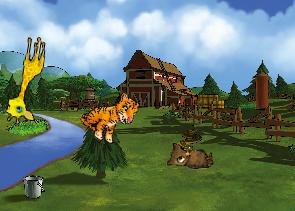giraffe: (3, 33, 47, 126)
owl: (165, 139, 214, 170)
tiger: (76, 80, 143, 150)
